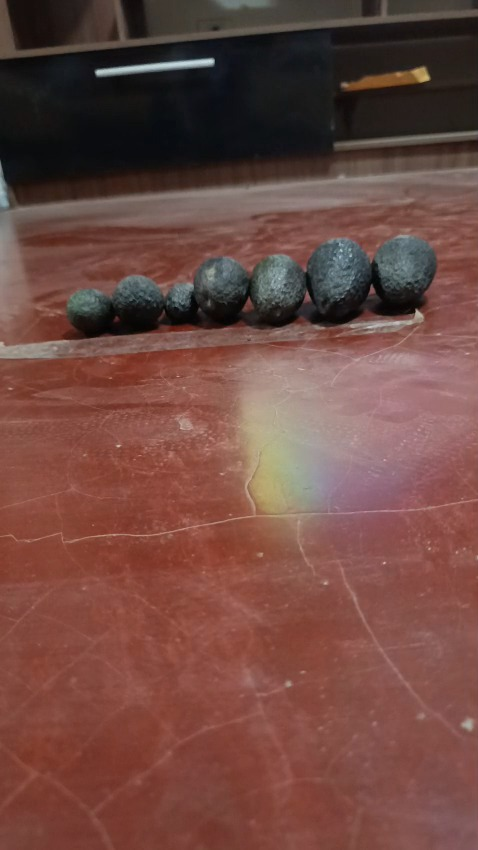Primera: (305, 237, 371, 321), (371, 234, 437, 310), (249, 253, 306, 324), (193, 256, 251, 323)
Segunda: (112, 274, 165, 330), (66, 287, 112, 335)
Tercera: (165, 282, 198, 324)
